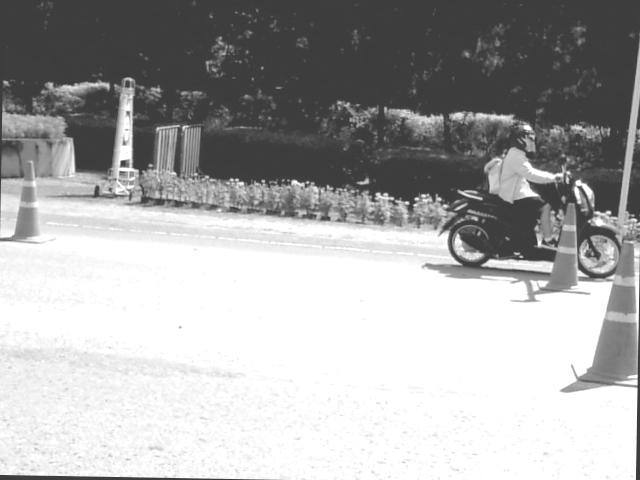helmet: (509, 114, 539, 153)
motor: (440, 188, 555, 266), (557, 156, 619, 277)
person: (495, 124, 562, 247)
